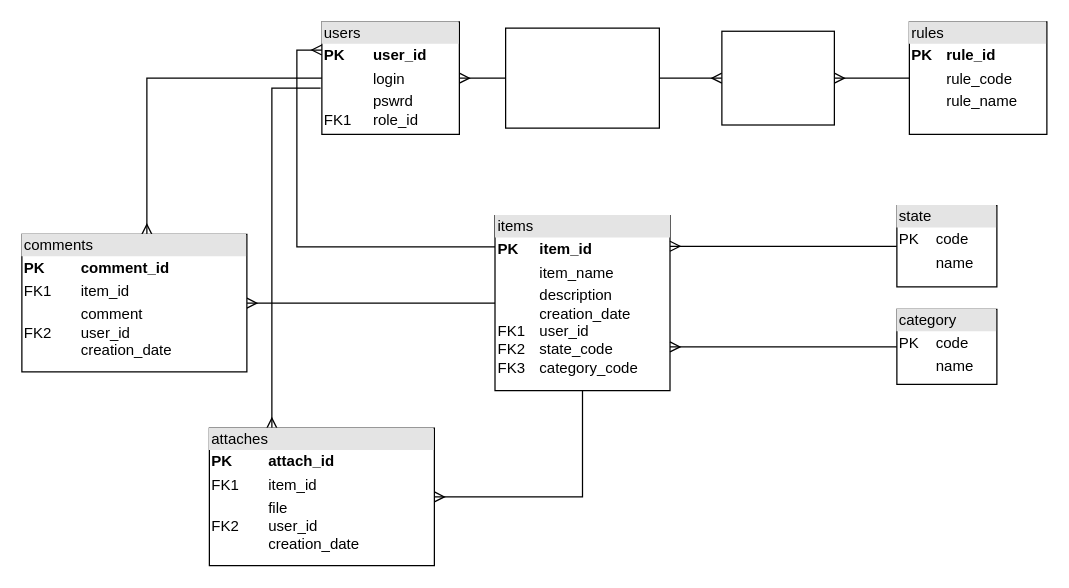
Image size: 1069x588. Some labels were removed from this diagram. Here are the shapes that lost their labels. From the top down, the centre of each, then its label:
At pixel 581 77: "roles PK role_id role_code role_name".
At pixel 777 77: "role_rules PK1 role_id PK1 rule_id".
